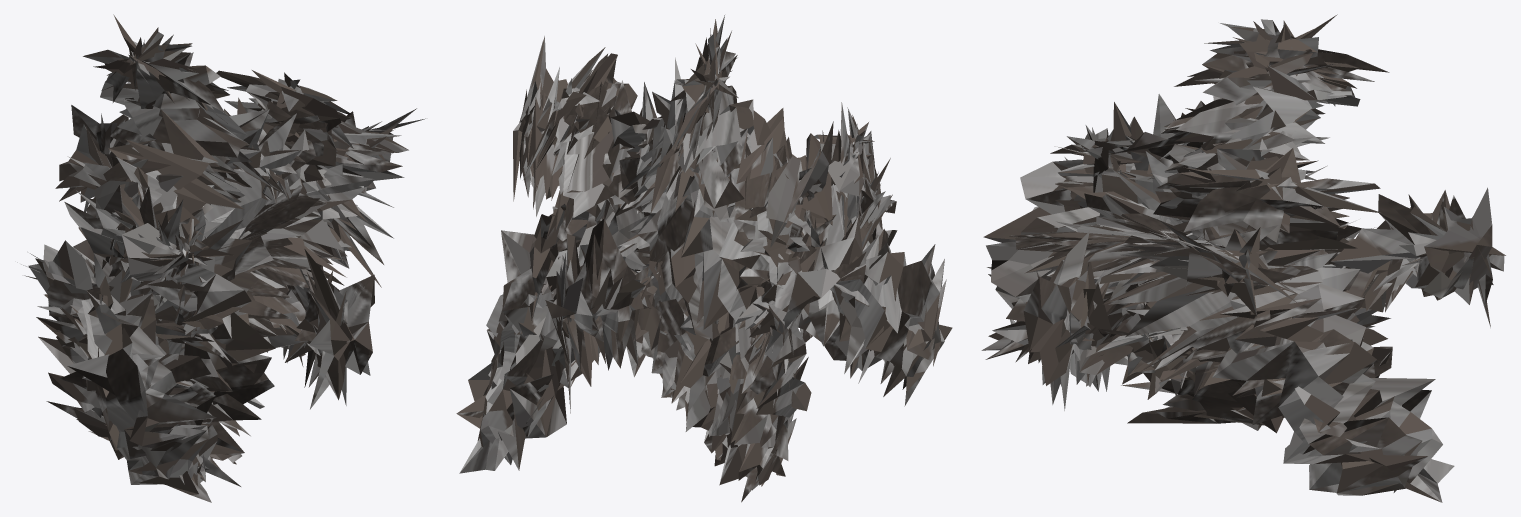
The model's file is portal2.fbx.
The picture shows the model from 3 angles, left to right: view 1: azimuth 30°, elevation 25°; view 2: azimuth 150°, elevation 25°; view 3: azimuth 270°, elevation 25°; orthographic projection. The views are drawn at different scales.
Visible parts, largest first — view 1: portal; view 2: portal; view 3: portal.
Boxes of the visible parts, x1,y1,x2,y2 form: portal: (17,14,425,502); portal: (456,15,952,502); portal: (981,14,1505,502).
Size of the model in its own units: 480 by 545 by 595.
